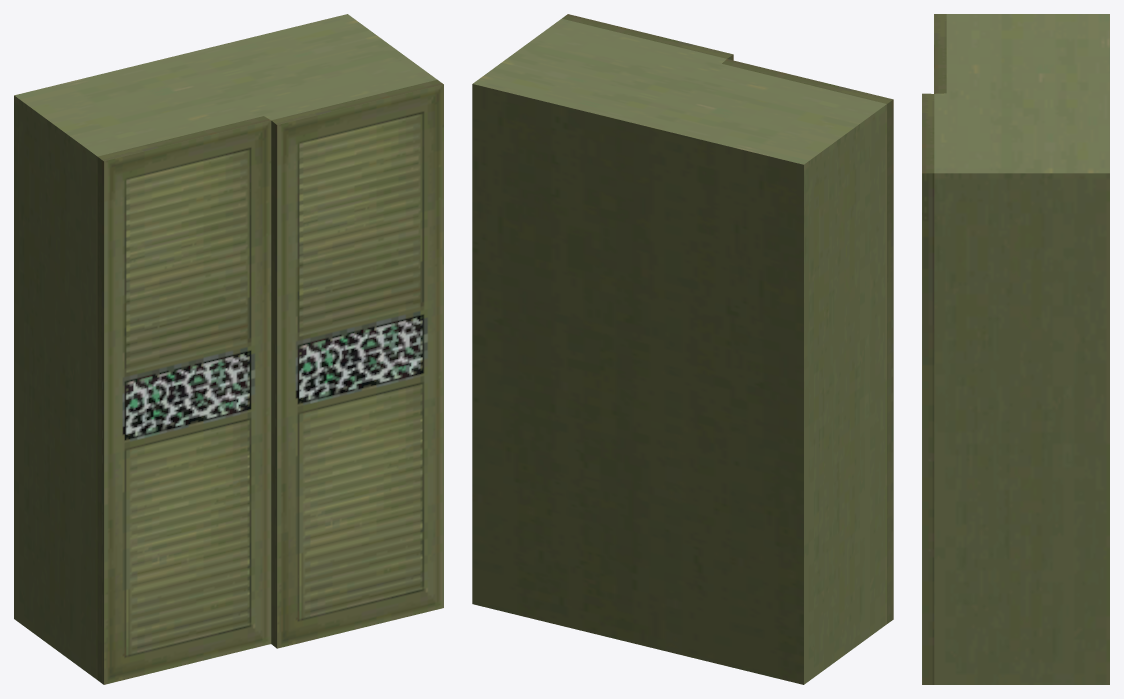
File: furni_0200078_01.FBX
3 renders of one model, left to right at view 1: azimuth 30°, elevation 25°; view 2: azimuth 150°, elevation 25°; view 3: azimuth 270°, elevation 25°, orthographic. The views are drawn at different scales.
Parts seen in each view (by area): view 1: furni_0200078_01; view 2: furni_0200078_01; view 3: furni_0200078_01.
Part boxes in pixels (bbox=[...]): furni_0200078_01: bbox=[14, 14, 443, 684]; furni_0200078_01: bbox=[472, 14, 893, 684]; furni_0200078_01: bbox=[922, 14, 1109, 684].
Bounding box in the file's own units: 160 × 240 × 79.9.
Materials: 1 (1 with a texture image).
